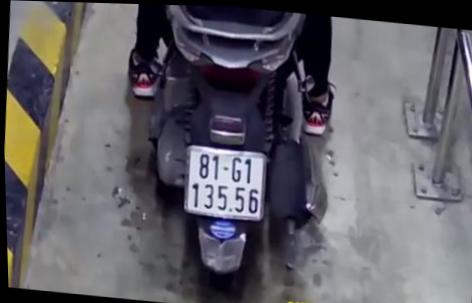LP: (177, 140, 268, 223)
